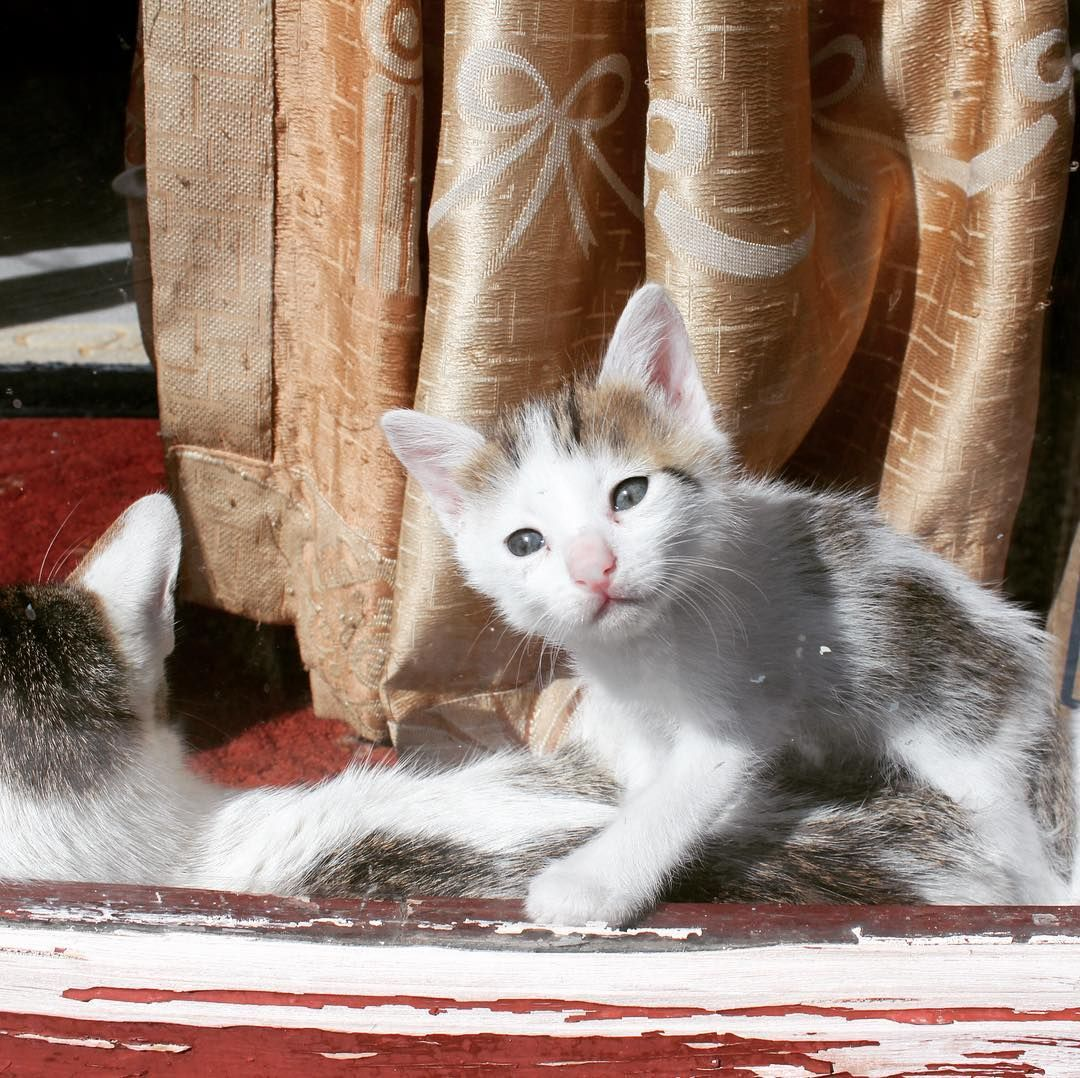cat: (378, 266, 1080, 960), (1, 486, 1045, 926)
